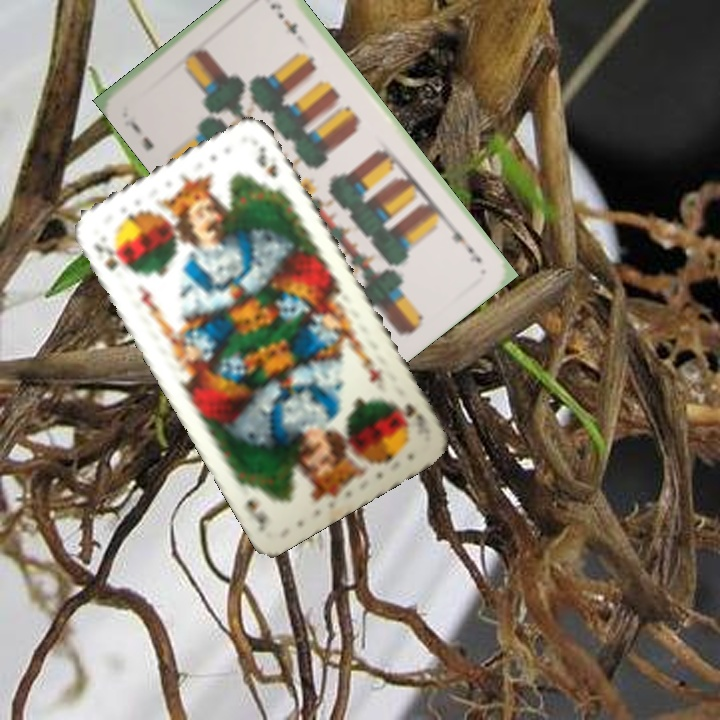E7: (444, 219, 484, 266), (122, 116, 156, 154)
SK: (89, 239, 129, 274), (393, 398, 429, 431)
